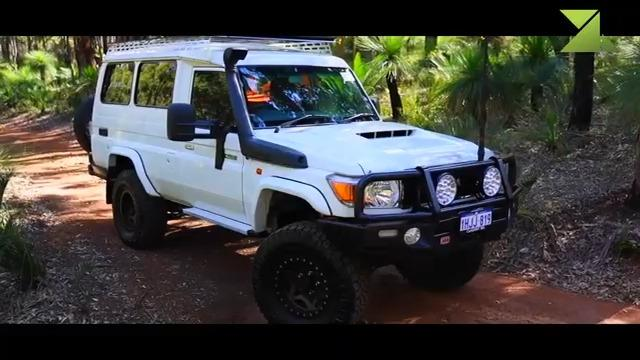MIL_HMMWV: (73, 35, 522, 323)
